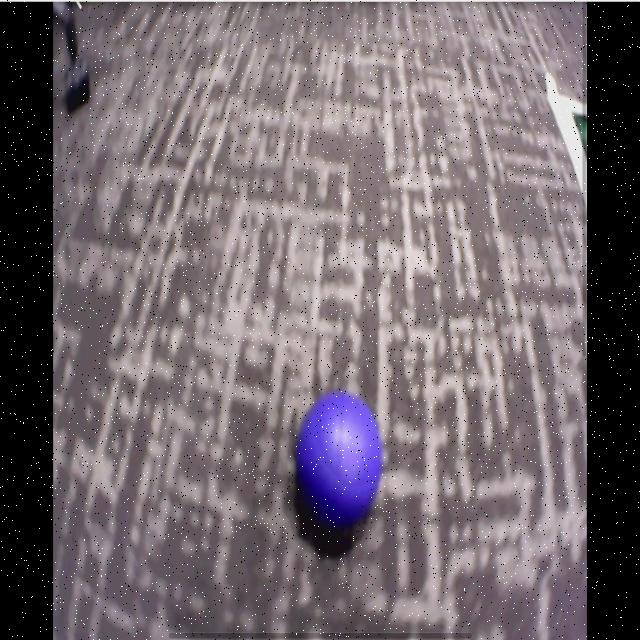ball: (293, 392, 384, 533)
